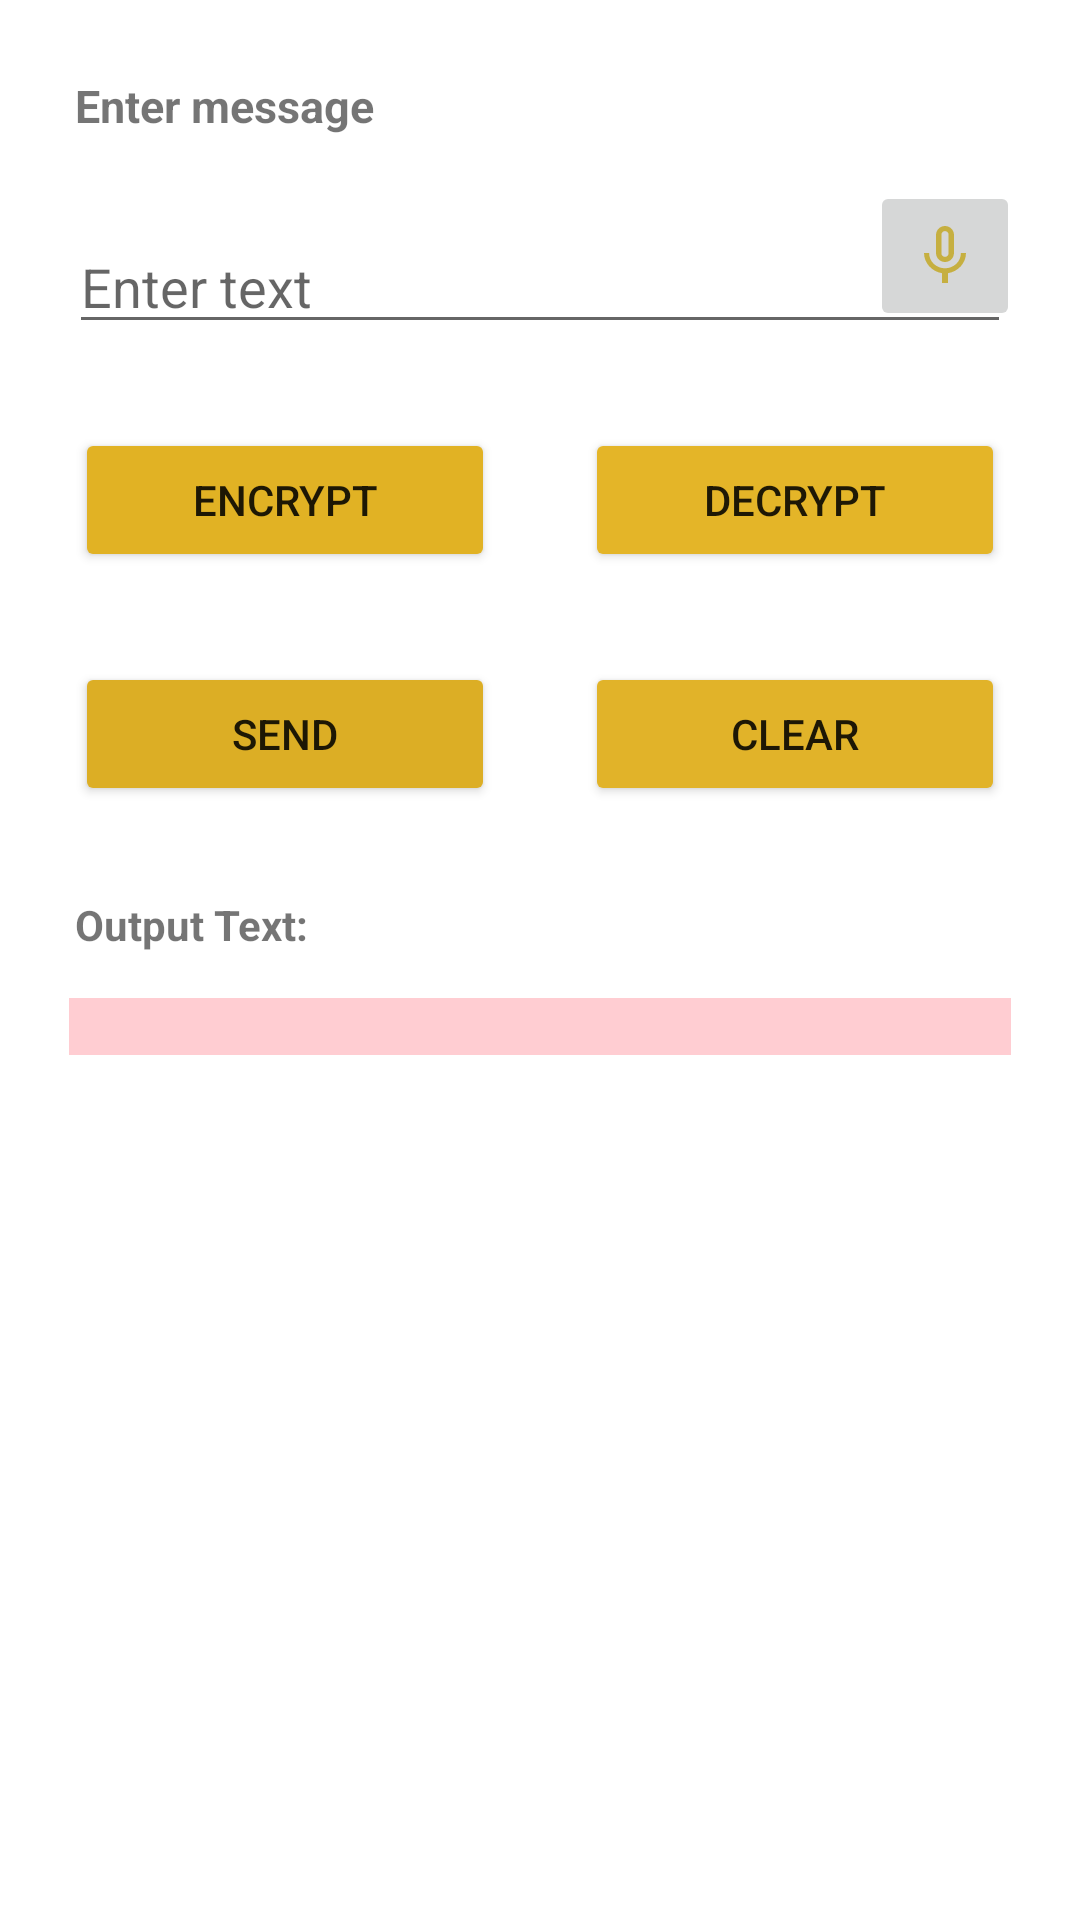

Named icons in this screenshot (1080w x 1920h) and their centers, point (x, y):
mic none: point (945, 256)
